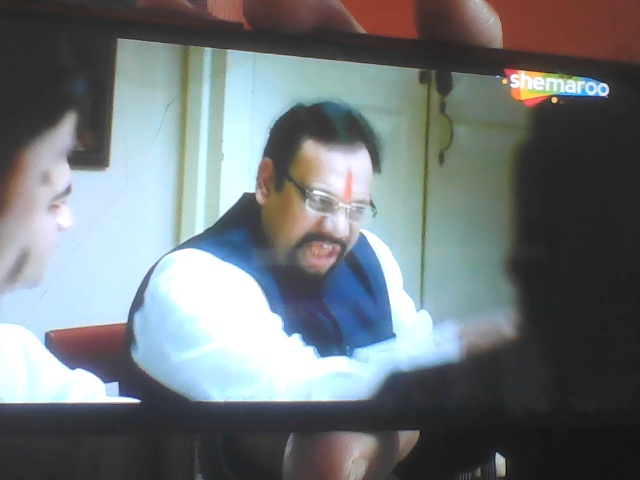fake: (250, 98, 385, 290)
